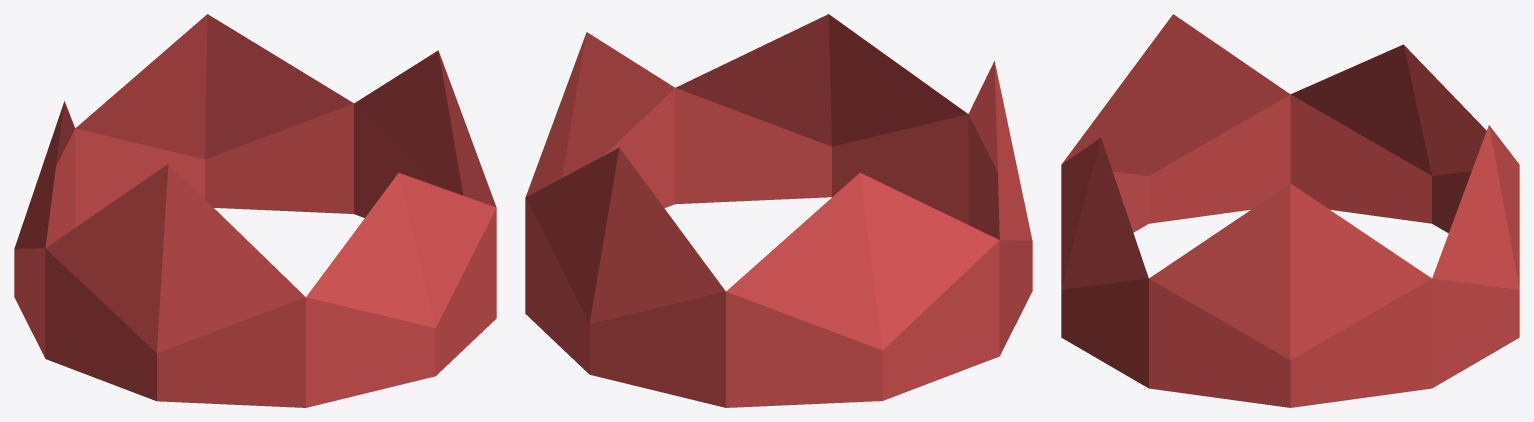
Rendered from Party_Hat_Red.glb.
3 views of the same model, side by side, from view 1: azimuth 30°, elevation 25°; view 2: azimuth 150°, elevation 25°; view 3: azimuth 270°, elevation 25° (orthographic). The views are drawn at different scales.
Visible parts, largest first — view 1: PartyHat; view 2: PartyHat; view 3: PartyHat.
Part boxes in pixels (x1,y1,x2,y2): PartyHat: (14, 14, 496, 407); PartyHat: (525, 14, 1032, 407); PartyHat: (1061, 14, 1519, 407).
Bounding box in the file's own units: 0.32 × 0.1622 × 0.3043.
